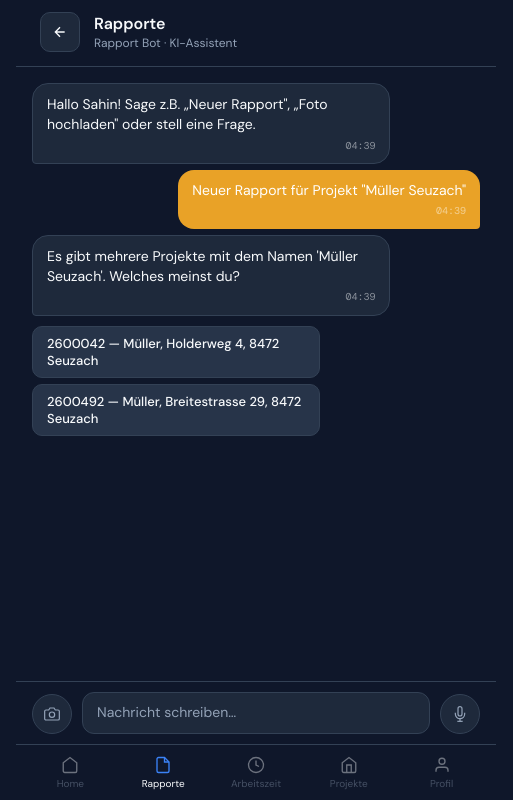
Test: ChatScreen — Projekt-Auswahl › antwortet mit der id des angetippten Projekts
Click the button "2600042 — Müller, Holderweg 4, 8472 Seuzach".
click(176, 352)  # box [32,326,320,378]
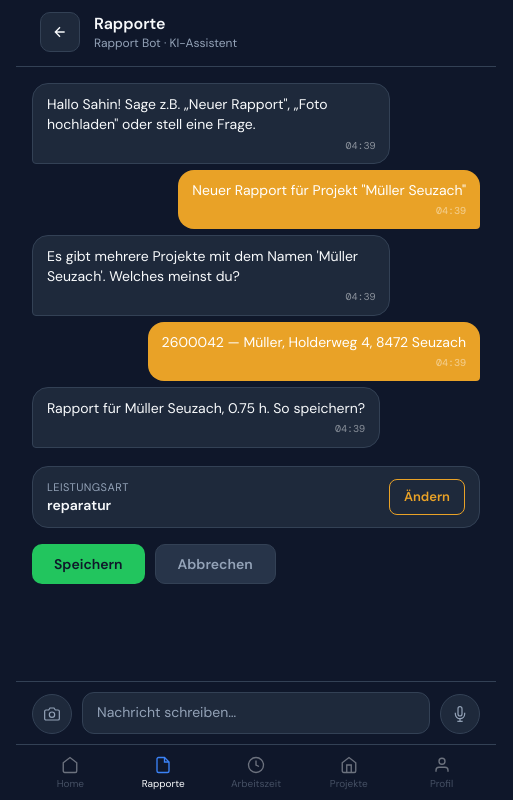
Expected: the button "Speichern" is shown, [32,544,145,584]
